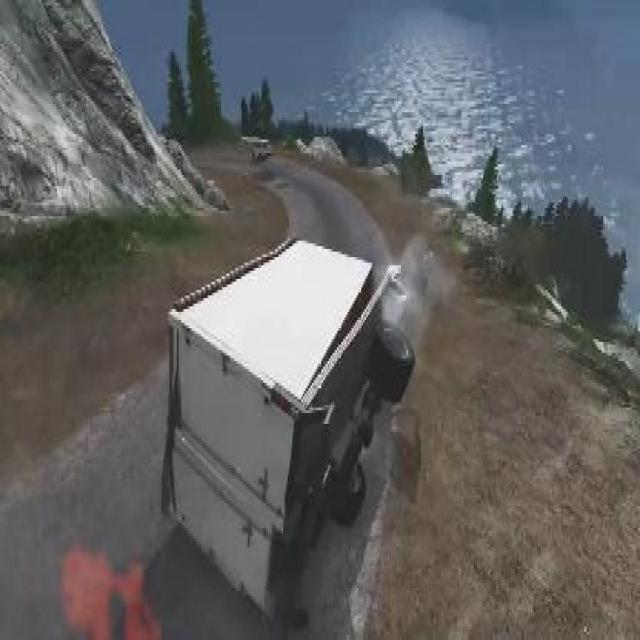accident: (152, 205, 418, 640)
